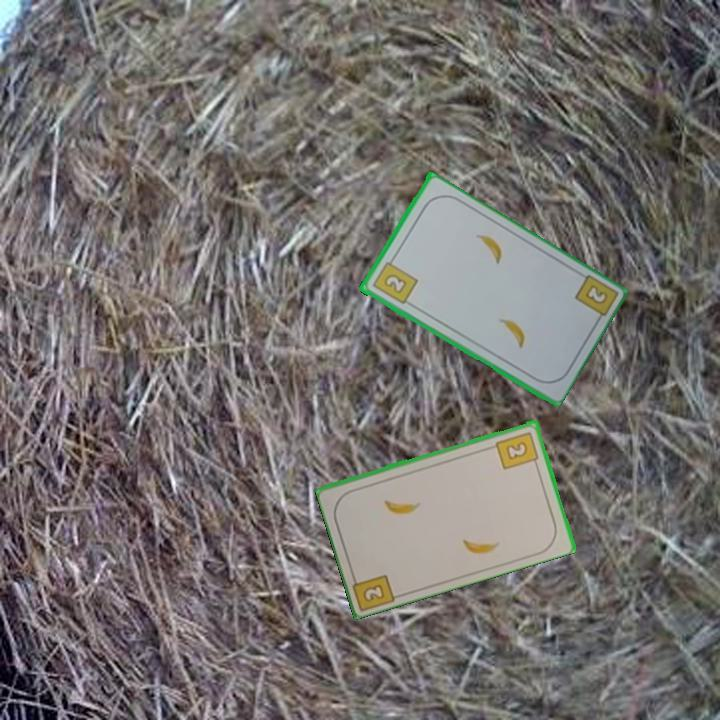2b: (368, 254, 420, 307), (348, 568, 399, 612), (493, 428, 541, 472), (581, 281, 610, 308)
